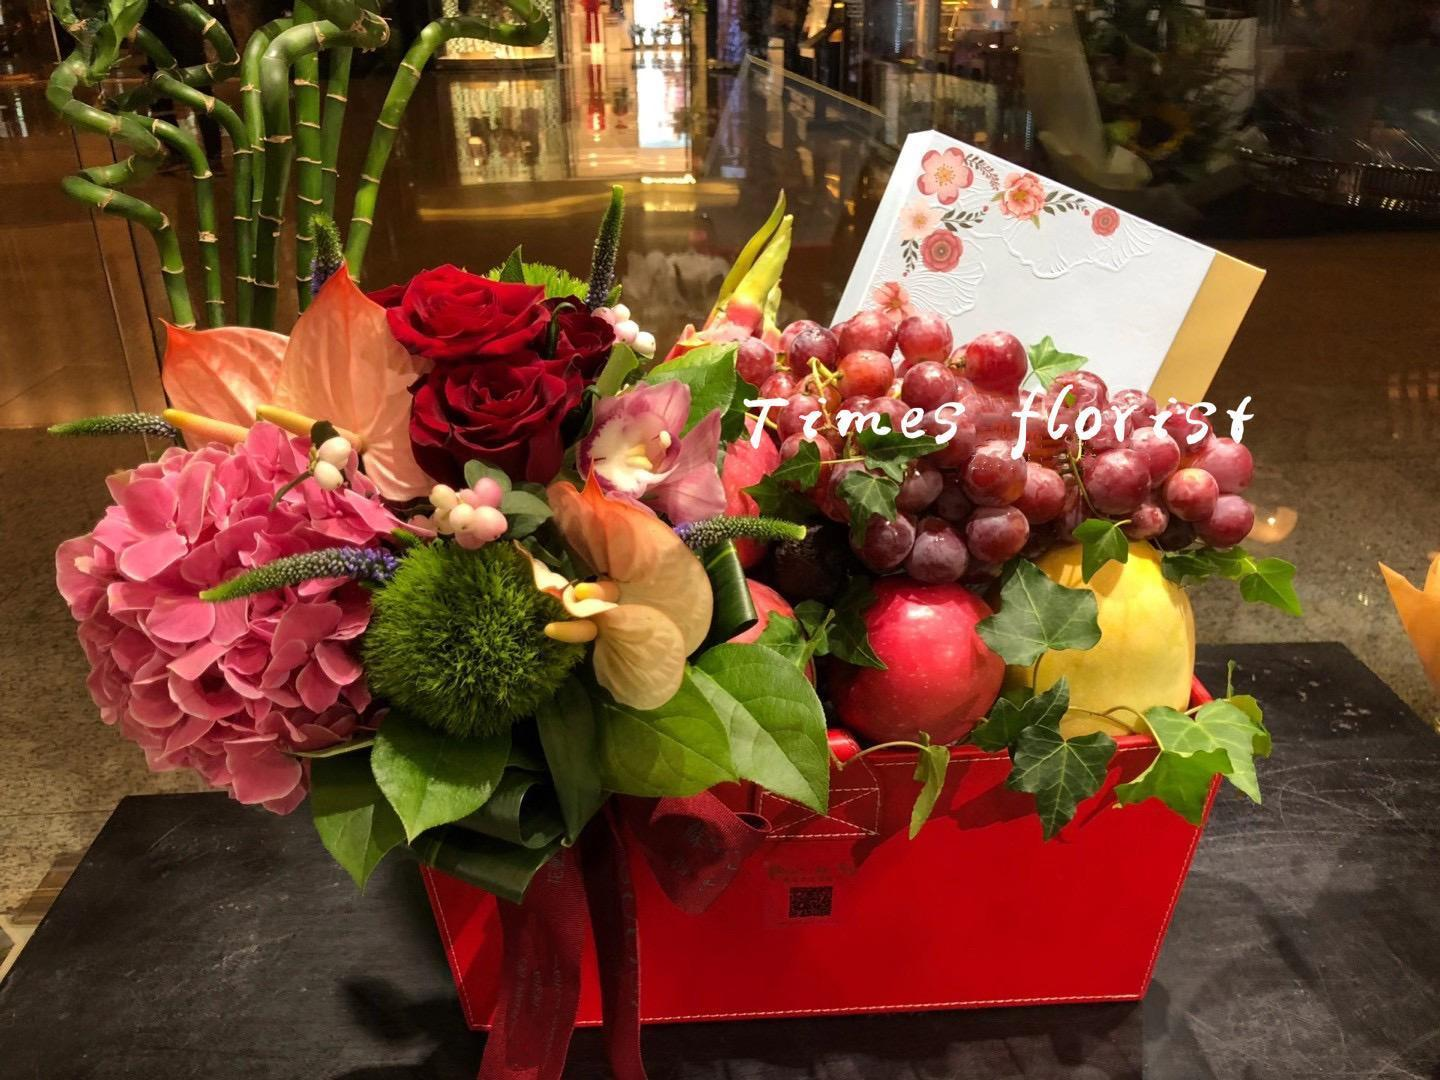apple: (830, 574, 1001, 751)
